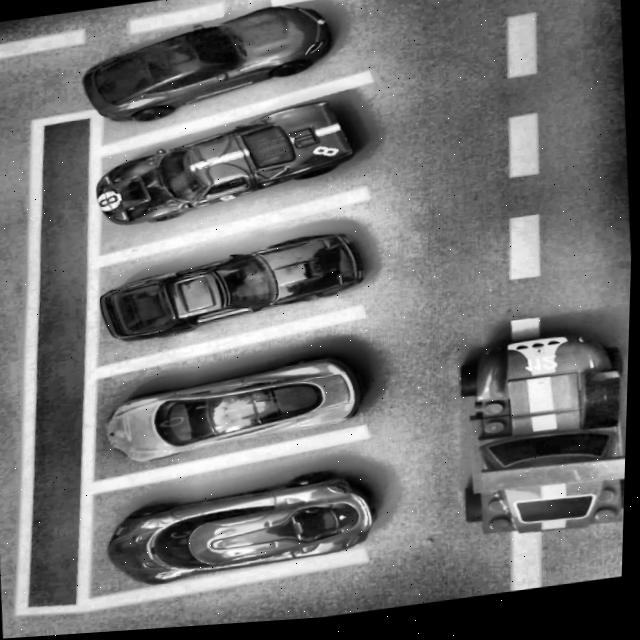car: (441, 322, 632, 557), (92, 101, 360, 232), (107, 468, 381, 593), (79, 2, 338, 131), (97, 232, 371, 347), (105, 354, 368, 469)
